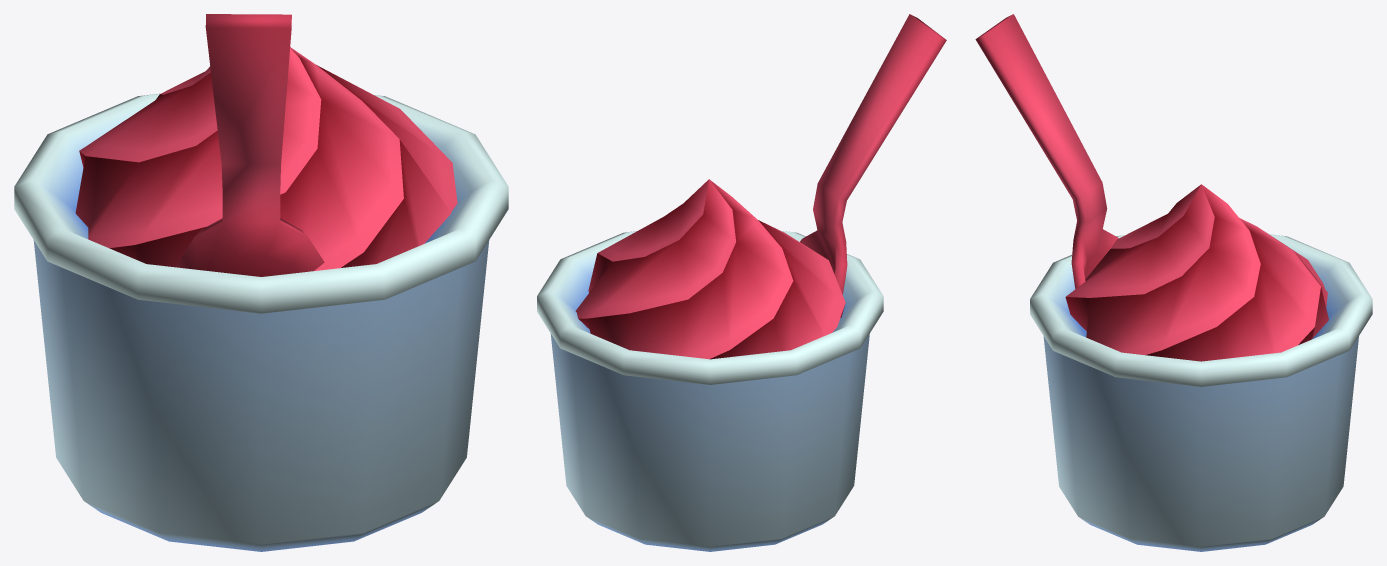
File: m_FrozenYoghurt02.fbx
3 renders of one model, left to right at view 1: azimuth 30°, elevation 25°; view 2: azimuth 150°, elevation 25°; view 3: azimuth 270°, elevation 25°, orthographic. The views are drawn at different scales.
Visible parts, largest first — view 1: m_FrozenYoghurt02; view 2: m_FrozenYoghurt02; view 3: m_FrozenYoghurt02.
Part boxes in pixels (left/top/right/bottom): m_FrozenYoghurt02: left=14, top=14, right=508, bottom=551; m_FrozenYoghurt02: left=537, top=14, right=946, bottom=551; m_FrozenYoghurt02: left=975, top=14, right=1372, bottom=551.
Bounding box in the file's own units: 13.65 × 18.45 × 15.83.
